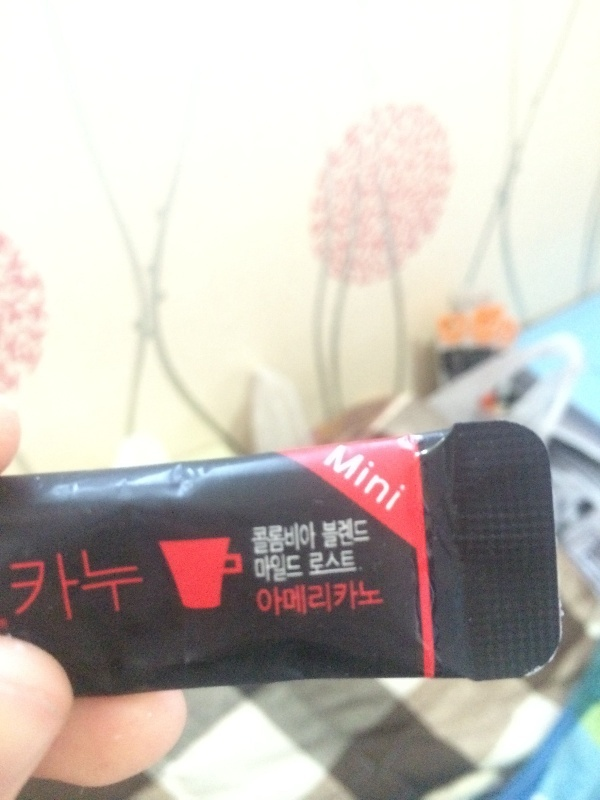text: (17, 541, 32, 637), (33, 541, 48, 637), (49, 541, 64, 637), (65, 541, 80, 637), (81, 541, 96, 637), (97, 541, 112, 637), (113, 541, 128, 637), (129, 541, 144, 637), (353, 437, 368, 516), (369, 437, 384, 516), (385, 437, 400, 516), (5, 541, 16, 637), (145, 541, 153, 637), (344, 437, 352, 516), (401, 437, 409, 516), (257, 578, 272, 620), (273, 578, 288, 620), (289, 578, 304, 620), (305, 578, 320, 620), (321, 578, 336, 620), (337, 578, 352, 620), (353, 578, 368, 620), (369, 578, 384, 620), (257, 520, 272, 558), (273, 520, 288, 558), (289, 520, 304, 558), (305, 520, 320, 558), (289, 553, 305, 588), (257, 553, 272, 588), (273, 553, 288, 588), (321, 518, 336, 551), (337, 518, 352, 551), (353, 518, 368, 551), (321, 549, 336, 577), (337, 549, 352, 577), (309, 549, 320, 577), (353, 549, 364, 577), (251, 520, 256, 558), (253, 553, 256, 588), (369, 518, 372, 551), (254, 578, 256, 620), (385, 578, 386, 620)
